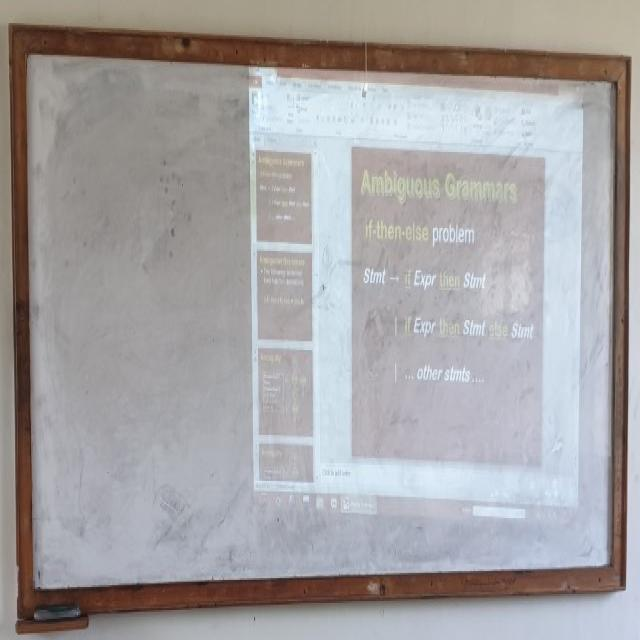Slide: (251, 44, 584, 532)
White-board: (20, 29, 621, 604)
